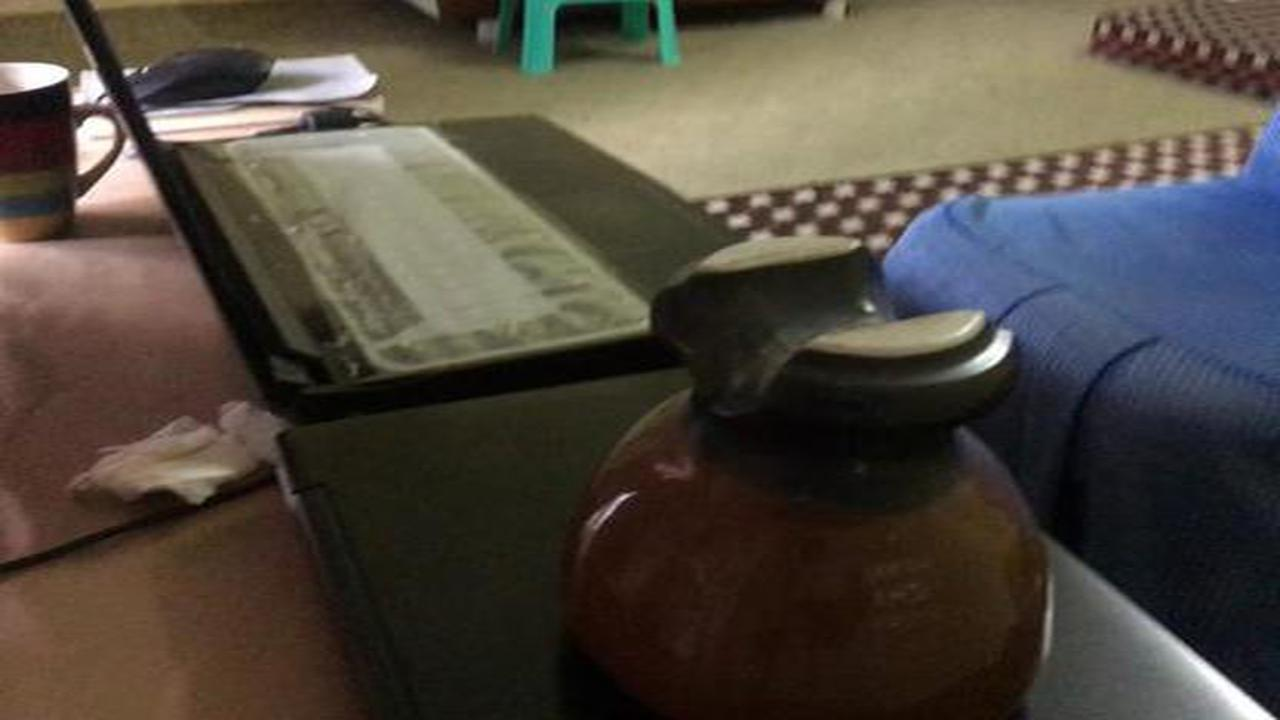insulator_pin: (551, 218, 1068, 720)
